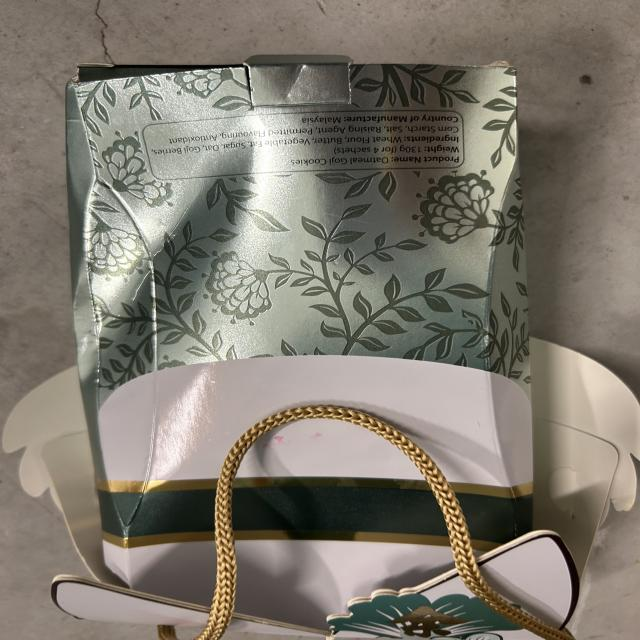object_name: (74, 78, 533, 618)
